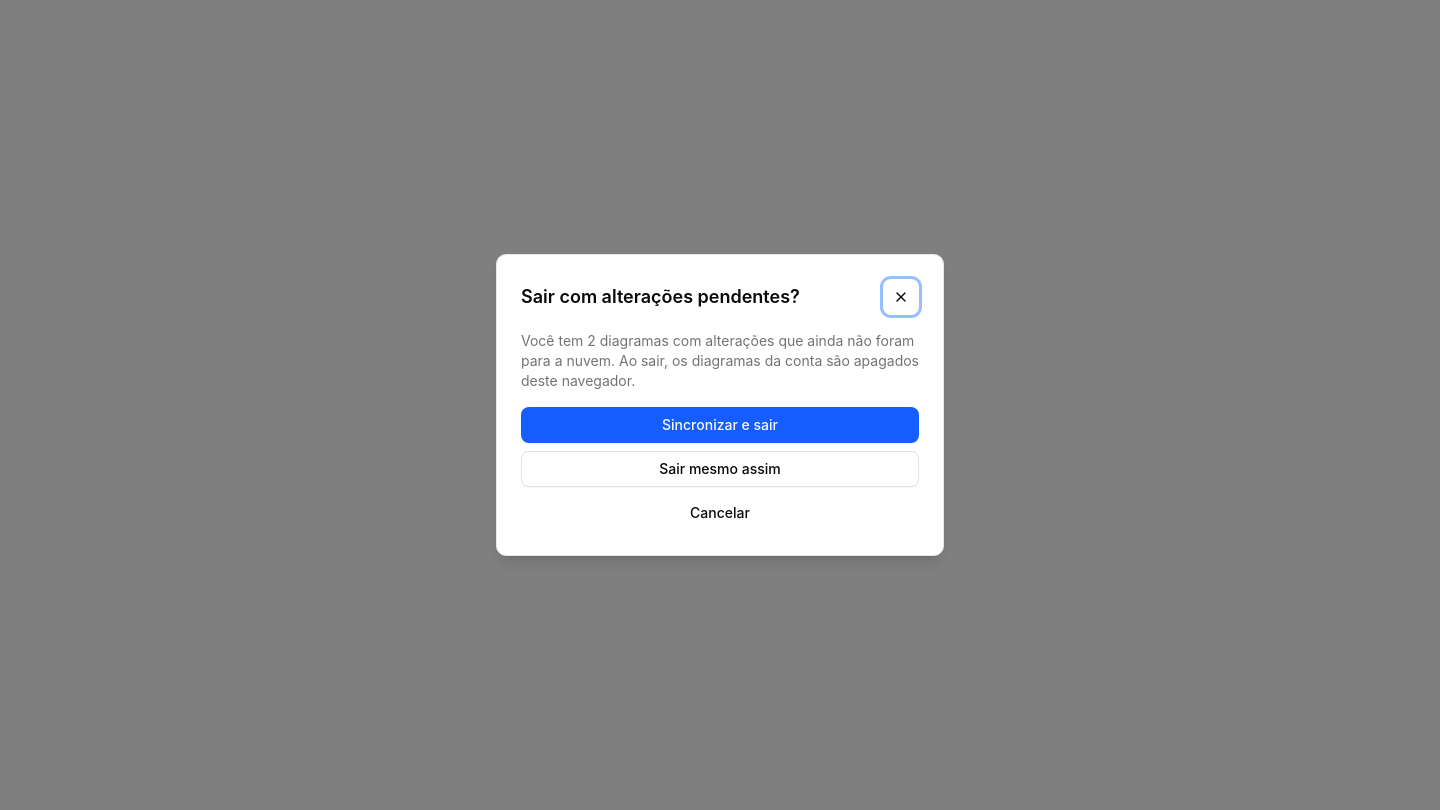
Test: SignOutDialog › reports a failed sign out and lets the user try again
What coordinates should you click on to do the following:
click the button "Sair mesmo assim"
I would click on:
 (720, 469)
Its box is [521, 451, 919, 487].
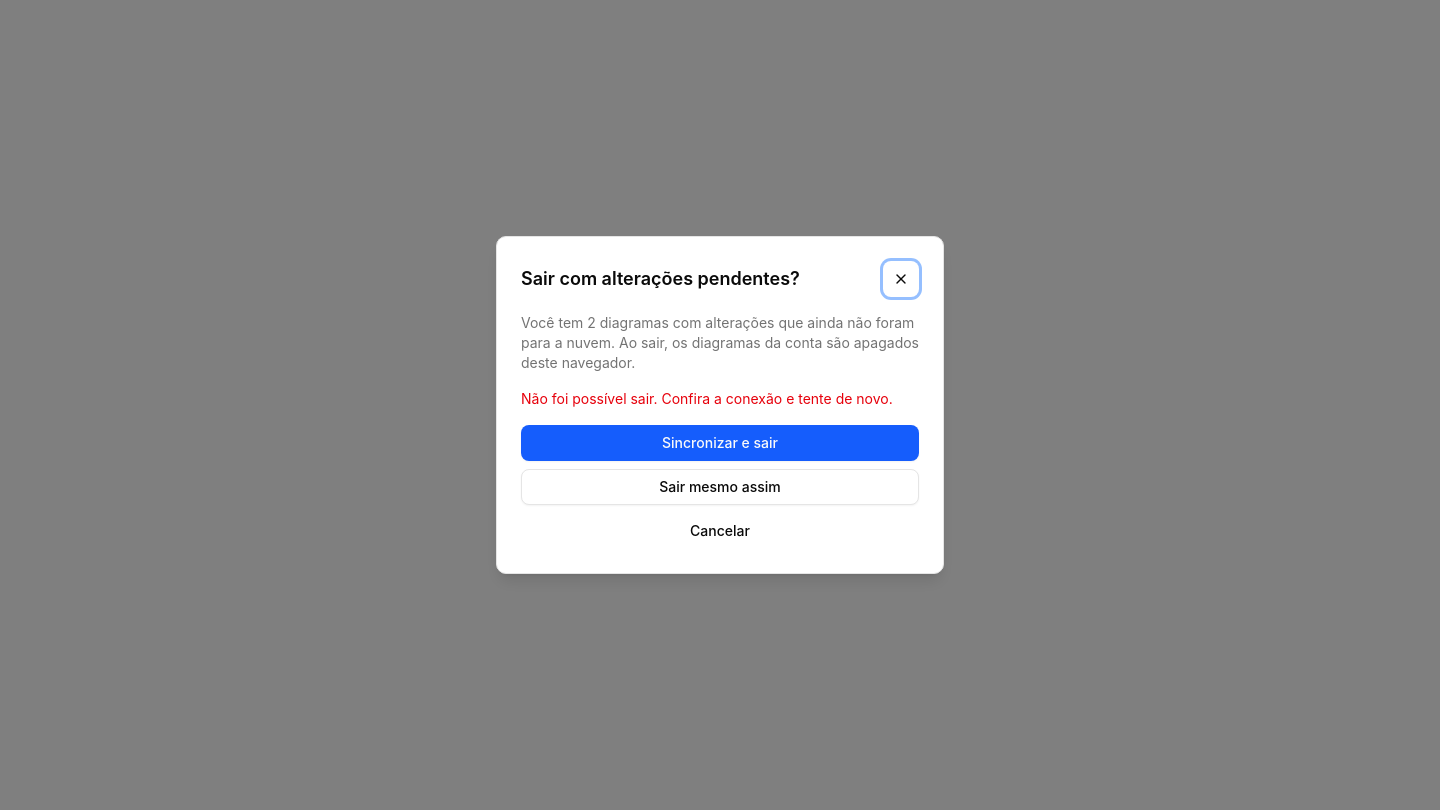
Now the message shows "Não foi possível sair", box [521, 390, 893, 407]
